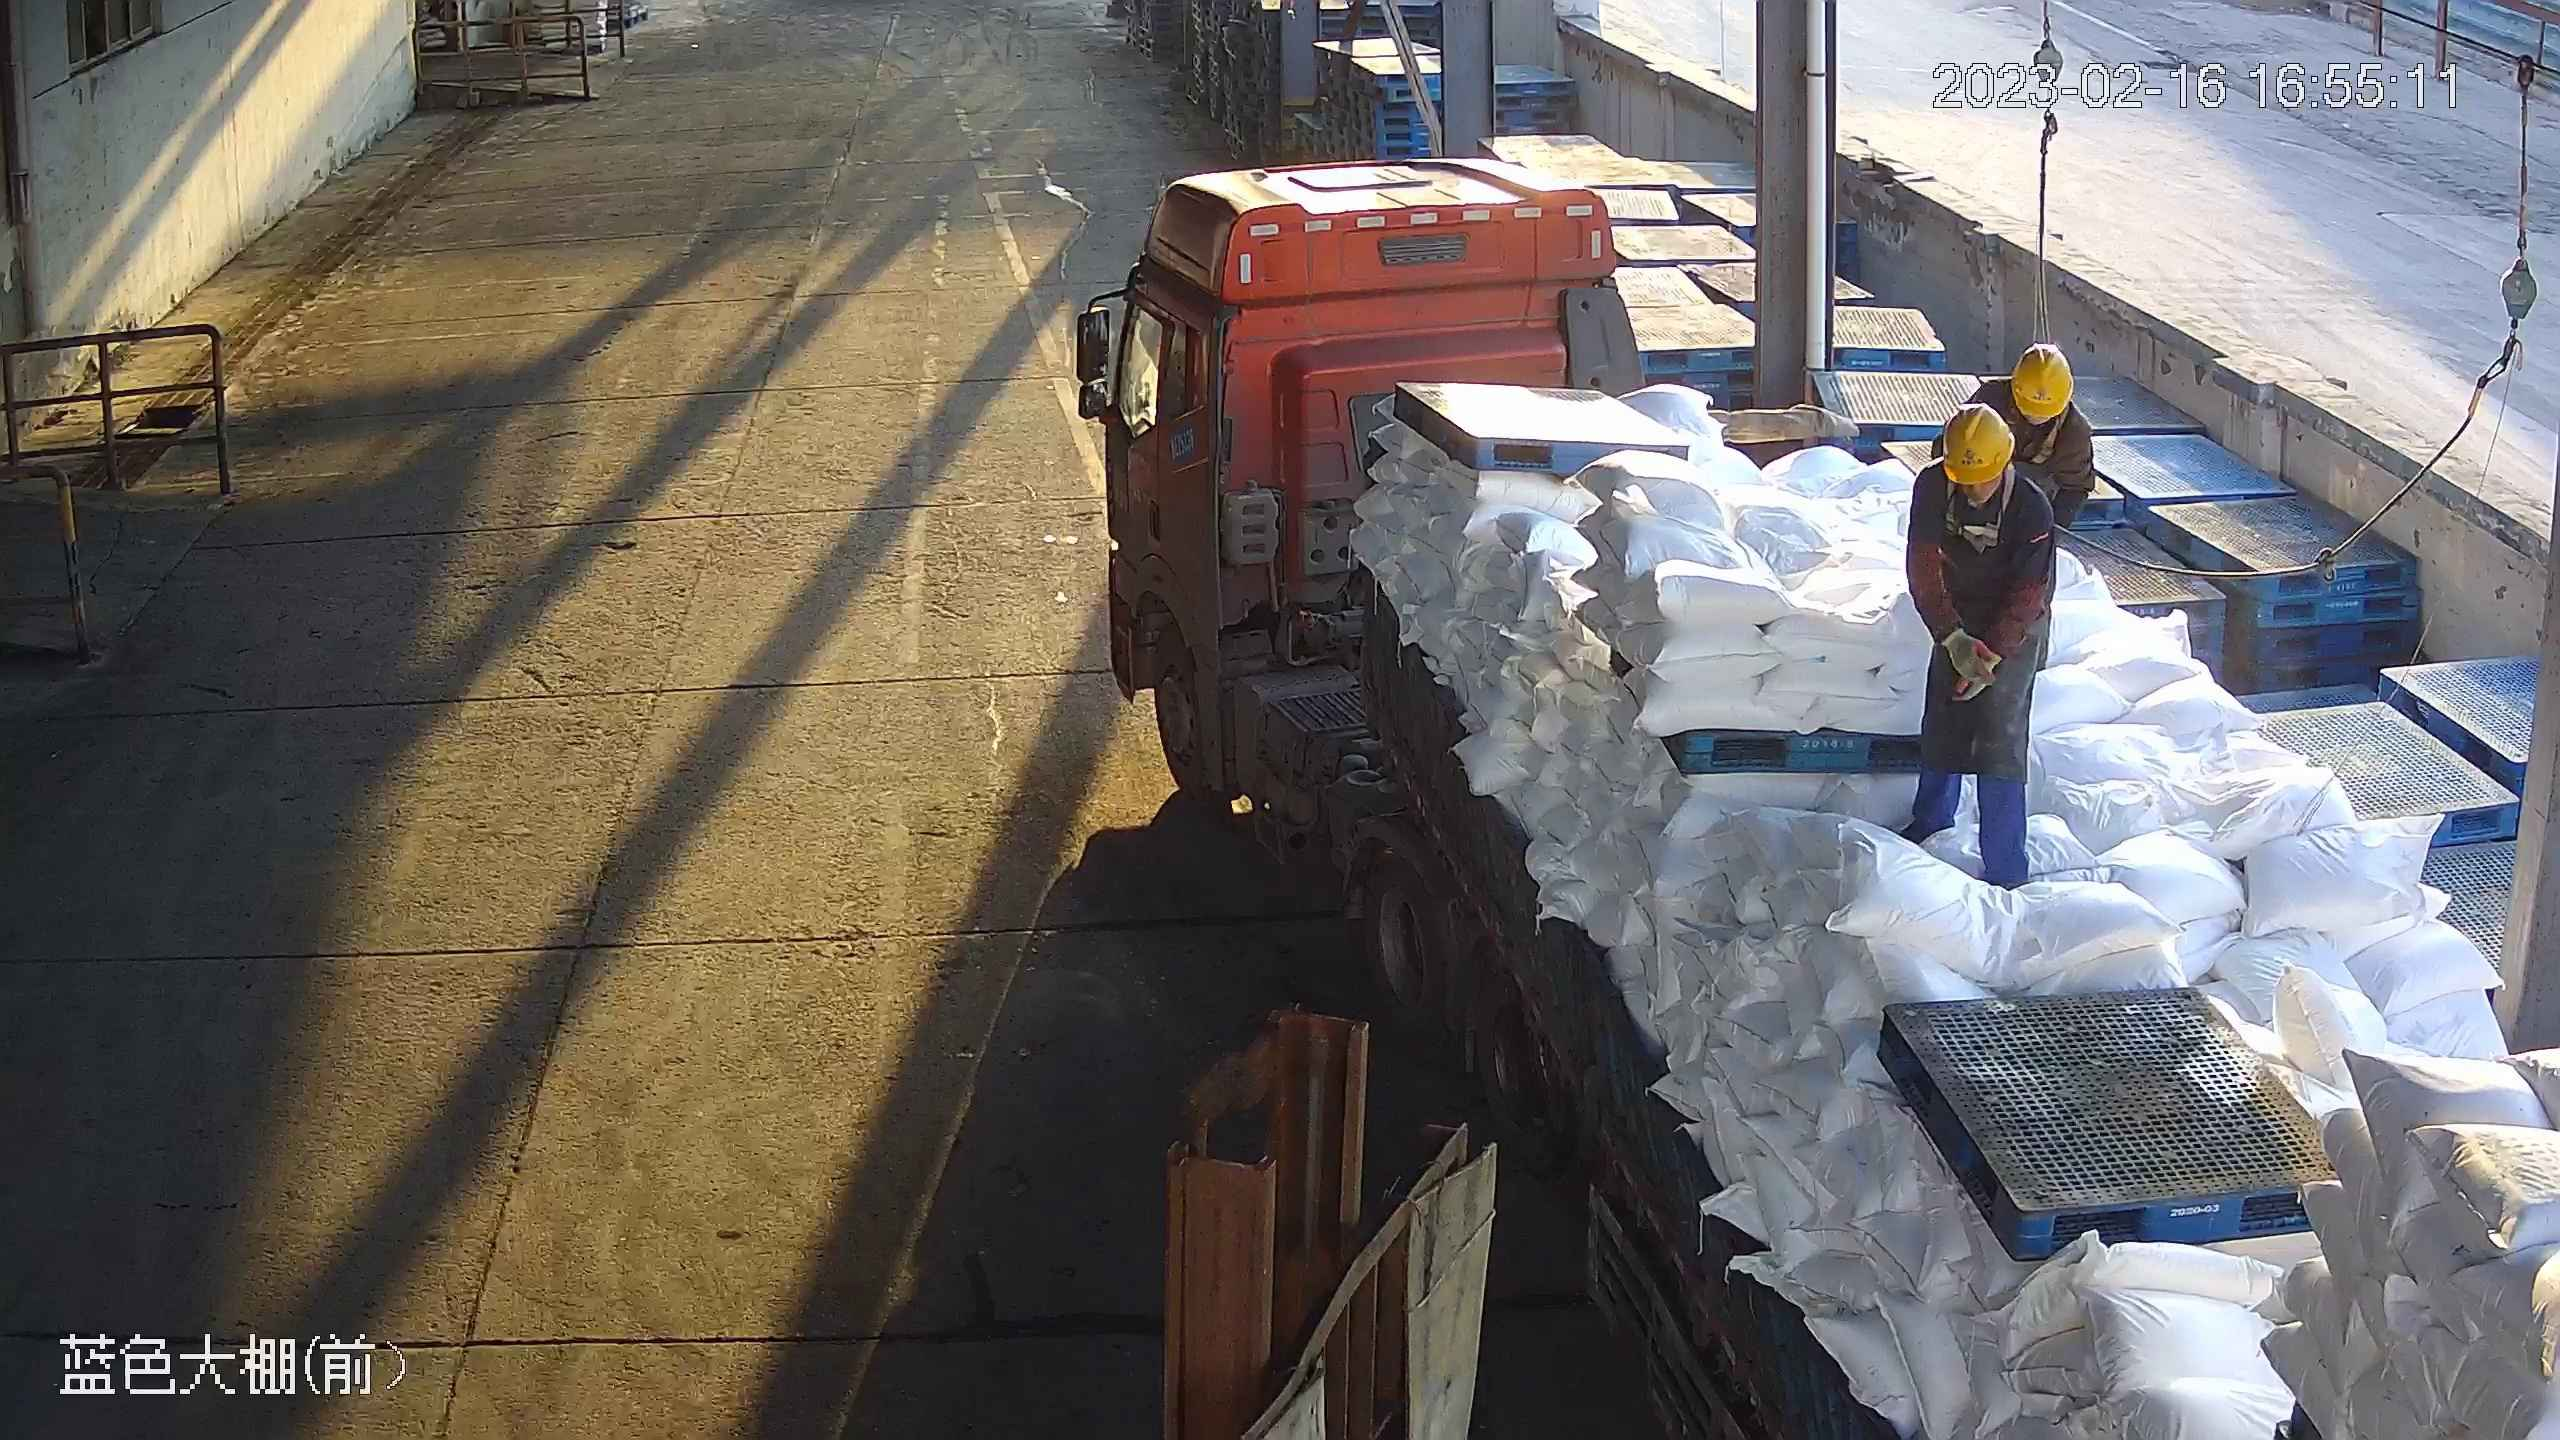belt: (1944, 463, 2015, 555)
head: (1910, 401, 2057, 544)
helmet: (1942, 404, 2016, 486), (2010, 343, 2075, 425)
people: (1897, 401, 2058, 892)
truck: (1070, 154, 2560, 1440)
